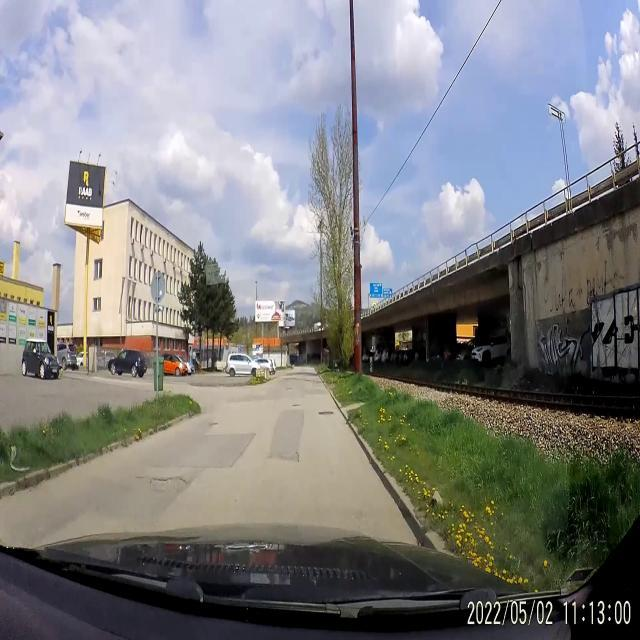Manhole: (316, 402, 338, 422)
Pothole: (138, 468, 194, 504), (268, 431, 307, 473), (290, 399, 304, 415), (210, 417, 218, 433)
